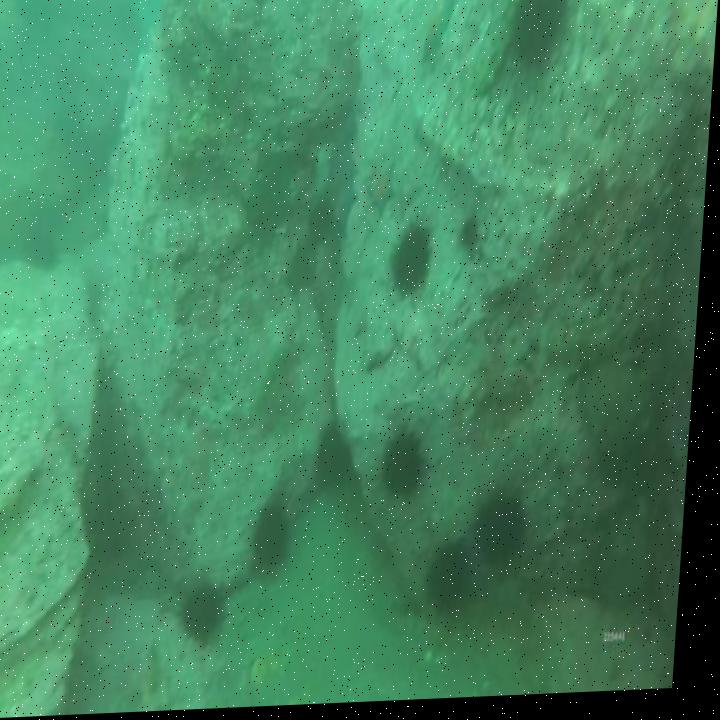echinus: (513, 0, 568, 69), (433, 551, 482, 622), (482, 503, 535, 567), (258, 502, 301, 569), (390, 436, 432, 503), (393, 235, 436, 293), (188, 588, 233, 641), (324, 430, 360, 493), (28, 232, 59, 272)
starfish: (424, 9, 451, 65), (368, 178, 400, 218)
